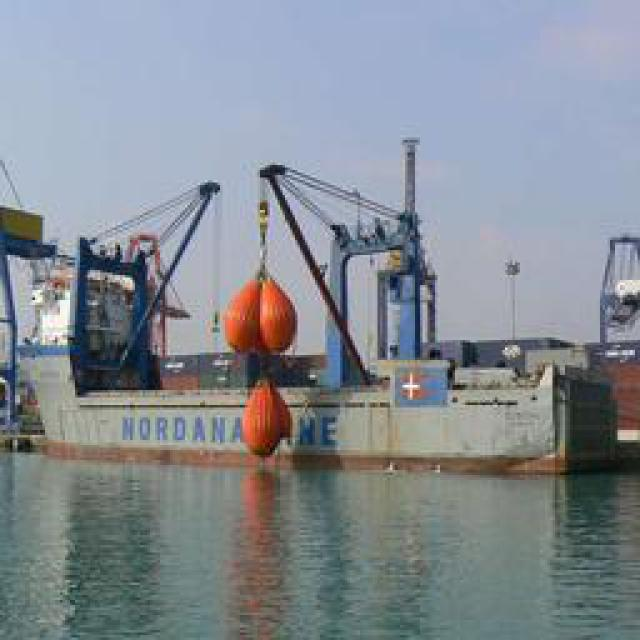Ship: (61, 141, 629, 466)
